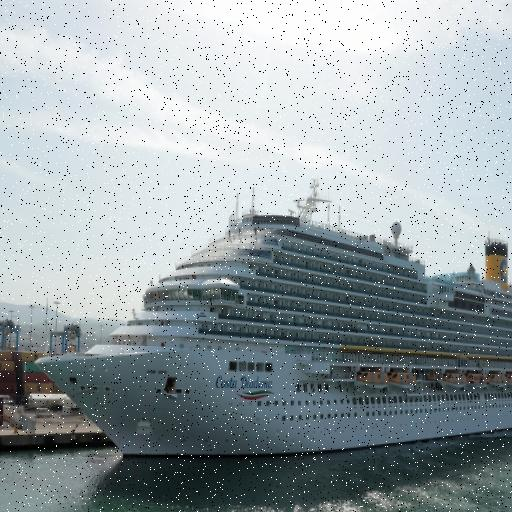cruises: (32, 179, 512, 465)
